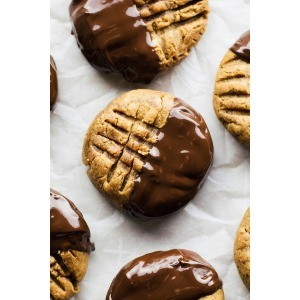peanut butter_brain food: (130, 111, 210, 223), (108, 247, 223, 297), (76, 14, 154, 79)
